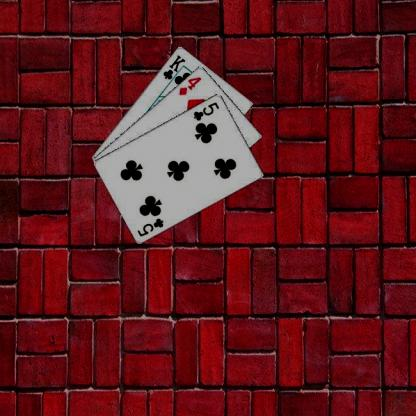4D: (176, 74, 202, 96)
5C: (191, 99, 220, 122), (134, 215, 164, 237)
KC: (161, 52, 187, 86)
